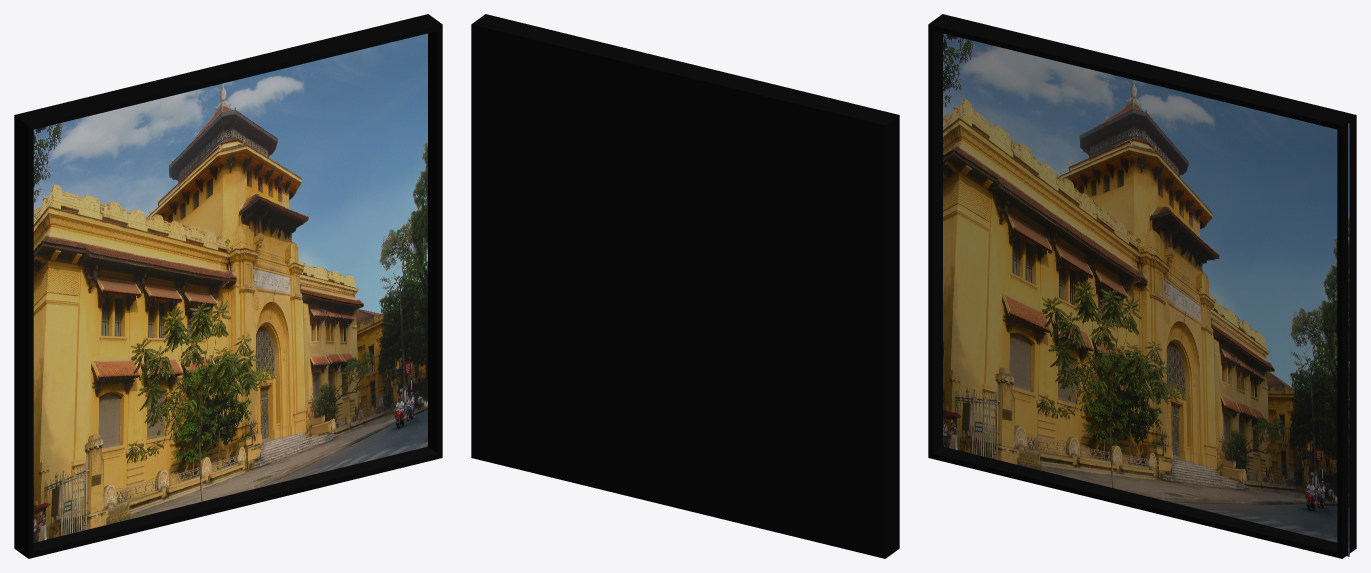
File: Cur.obj
3 views of the same model, side by side, from view 1: azimuth 30°, elevation 25°; view 2: azimuth 150°, elevation 25°; view 3: azimuth 330°, elevation 25° (orthographic).
Parts seen in each view (by area): view 1: Plane, Cube; view 2: Cube; view 3: Plane, Cube.
Part boxes in pixels (x1,y1,x2,y2): Plane: (33, 33, 427, 542); Cube: (14, 14, 442, 558); Cube: (471, 14, 899, 558); Plane: (943, 33, 1349, 556); Cube: (928, 14, 1356, 558).
Bounding box in the file's own units: 1 × 1 × 0.06.
Materials: 2 (1 with a texture image).
